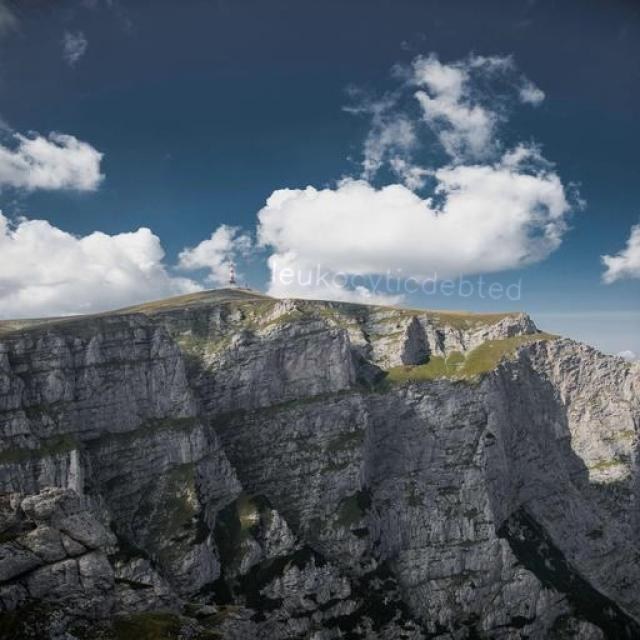watermark: (261, 258, 544, 304)
